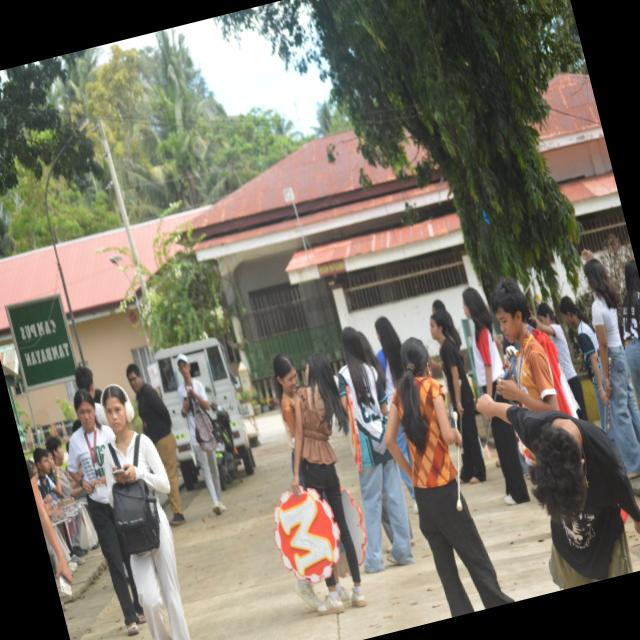person: (385, 338, 512, 616), (476, 395, 639, 588), (67, 389, 144, 635), (291, 353, 365, 607), (337, 327, 412, 573), (583, 259, 639, 478), (429, 311, 485, 484), (125, 364, 184, 526), (559, 296, 619, 452), (101, 385, 169, 505), (175, 354, 225, 514), (534, 302, 586, 421), (26, 462, 71, 584), (462, 288, 503, 401), (374, 317, 402, 407), (622, 261, 639, 401)
